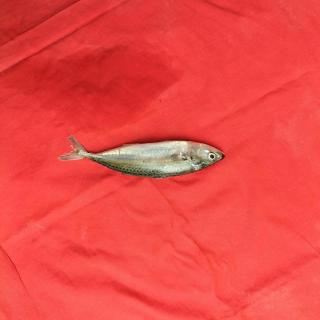Ikan: (61, 107, 231, 197)
